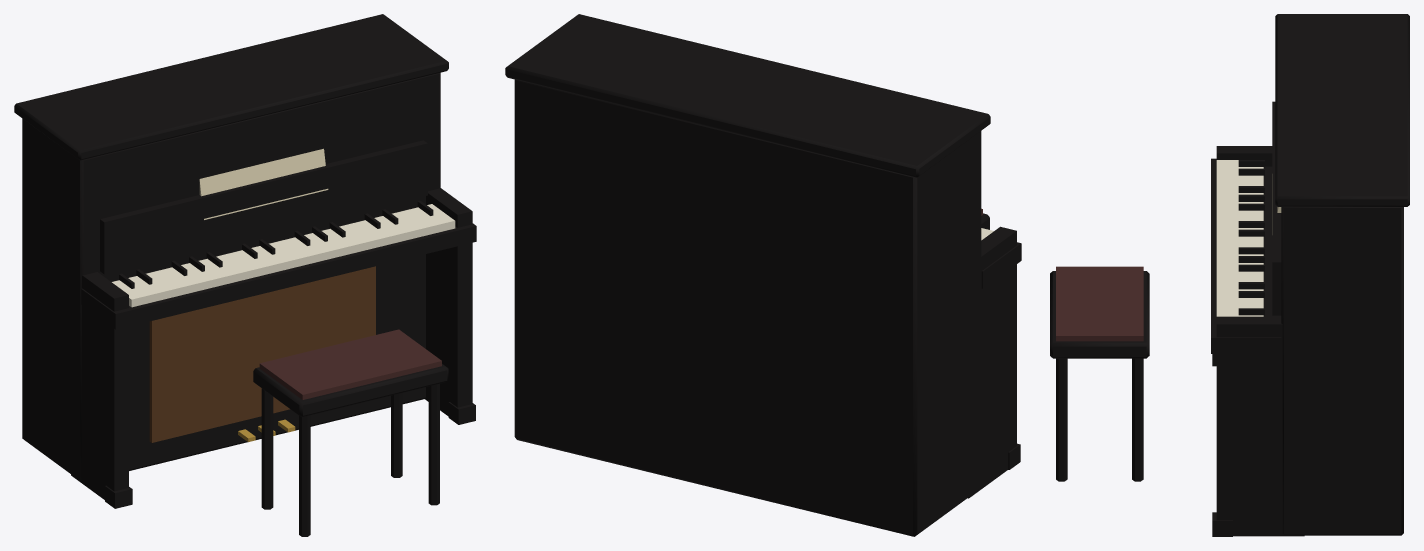
File: upright_piano.glb
3 renders of one model, left to right at view 1: azimuth 30°, elevation 25°; view 2: azimuth 150°, elevation 25°; view 3: azimuth 270°, elevation 25°, orthographic. The views are drawn at different scales.
Parts seen in each view (by area): view 1: Piano, PianoStool; view 2: Piano; view 3: Piano, PianoStool.
Boxes of the visible parts, left/top/right/bottom form: Piano: left=14, top=14, right=476, bottom=508; PianoStool: left=253, top=329, right=448, bottom=536; Piano: left=505, top=14, right=1021, bottom=536; Piano: left=1211, top=14, right=1409, bottom=536; PianoStool: left=1050, top=266, right=1149, bottom=481.
Bounding box in the file's own units: 1.49 × 1.29 × 1.23.
